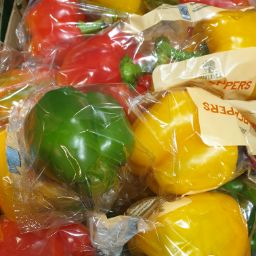Bell pepper: (97, 78, 256, 184), (13, 92, 145, 214), (98, 179, 256, 256), (149, 10, 256, 116), (1, 166, 120, 256), (21, 3, 143, 88)
